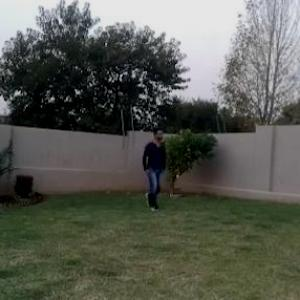follow: (138, 125, 167, 214)
